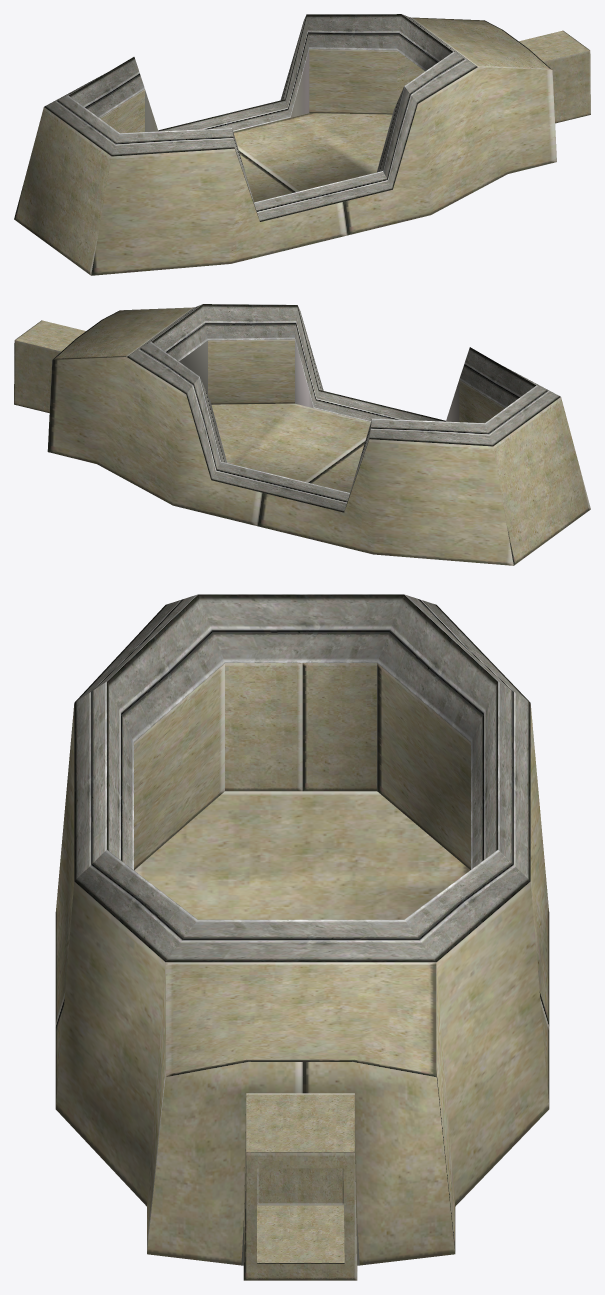
Rendered from ARKENSTONE_ARMA-SOCKET.fbx.
3 renders of one model, top to bottom at view 1: azimuth 30°, elevation 25°; view 2: azimuth 150°, elevation 25°; view 3: azimuth 270°, elevation 25°, orthographic. The views are drawn at different scales.
Visible parts, largest first — view 1: ARKENSTONE_ARMA-SOCKET; view 2: ARKENSTONE_ARMA-SOCKET; view 3: ARKENSTONE_ARMA-SOCKET.
Boxes of the visible parts, bbox=[...] form: ARKENSTONE_ARMA-SOCKET: bbox=[14, 14, 590, 275]; ARKENSTONE_ARMA-SOCKET: bbox=[14, 304, 590, 565]; ARKENSTONE_ARMA-SOCKET: bbox=[55, 594, 549, 1280].
Size of the model in its own units: 40045 by 9468 by 16311.
Materials: 4 (4 with a texture image).
